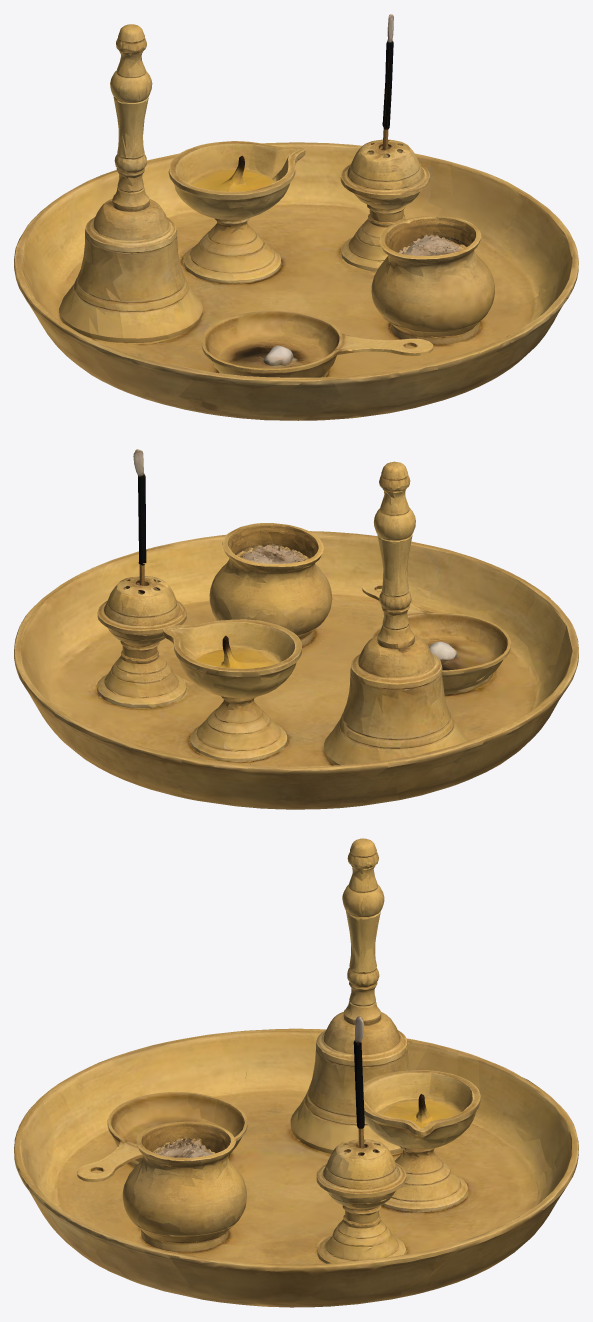
Rendered from w4altartray.glb.
The picture shows the model from 3 angles, top to bottom: view 1: azimuth 30°, elevation 25°; view 2: azimuth 150°, elevation 25°; view 3: azimuth 270°, elevation 25°; orthographic projection.
Parts seen in each view (by area): view 1: output_unwrapped; view 2: output_unwrapped; view 3: output_unwrapped.
Boxes of the visible parts, x1,y1,x2,y2 form: output_unwrapped: (14,14,578,420); output_unwrapped: (14,449,578,809); output_unwrapped: (14,838,578,1307).
Size of the model in its own units: 0.25 by 0.1458 by 0.2498.
1 material, 1 textured.
